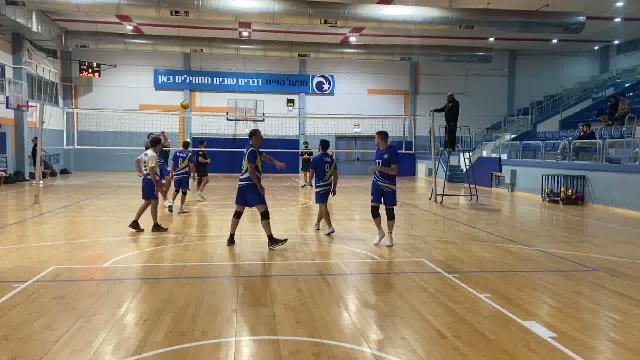ball: (179, 98, 188, 110)
